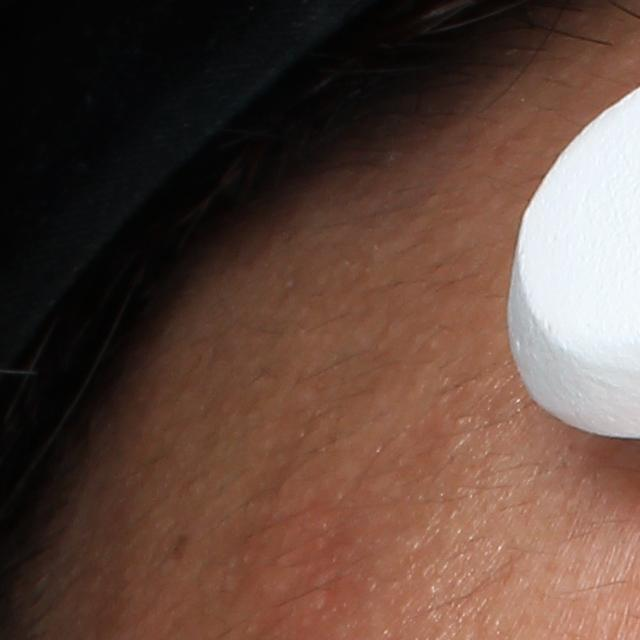nevus: (163, 531, 193, 561)
